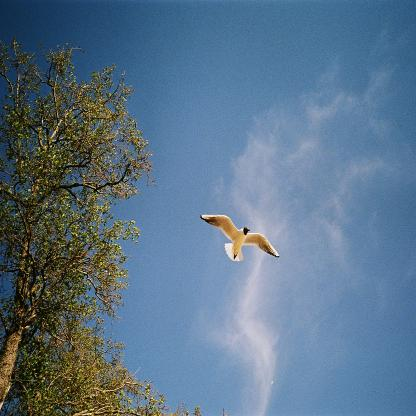bird: (201, 214, 278, 262)
